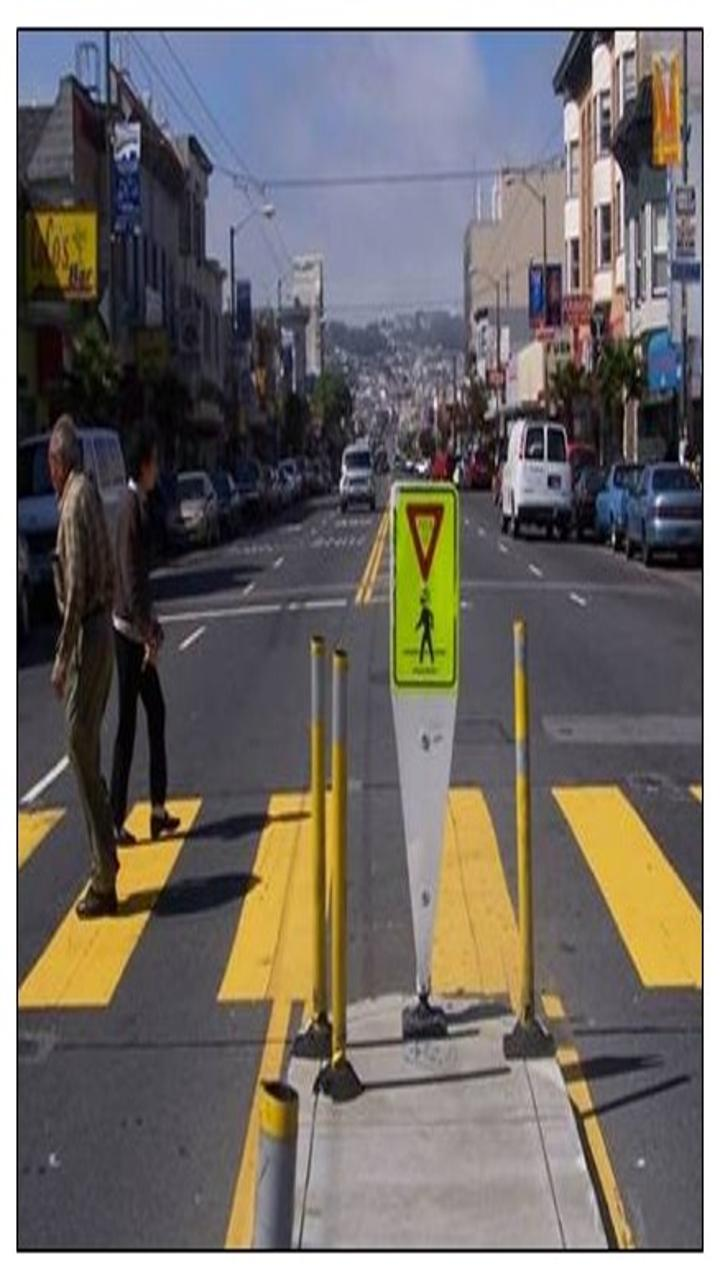Traffic sign: (368, 489, 484, 684)
pedestrian: (31, 417, 130, 916), (111, 419, 188, 856)
vehicle: (499, 417, 579, 541), (631, 456, 711, 580), (334, 436, 383, 521)
